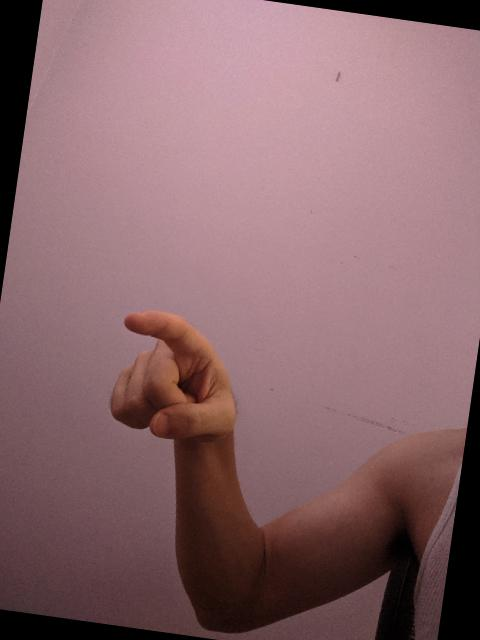Z: (98, 302, 255, 452)
